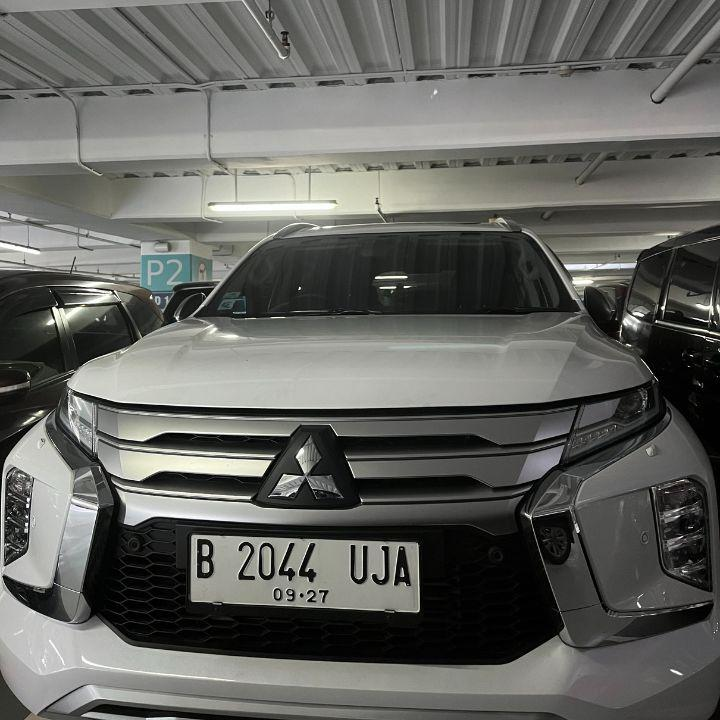plat: (191, 535, 420, 613)
